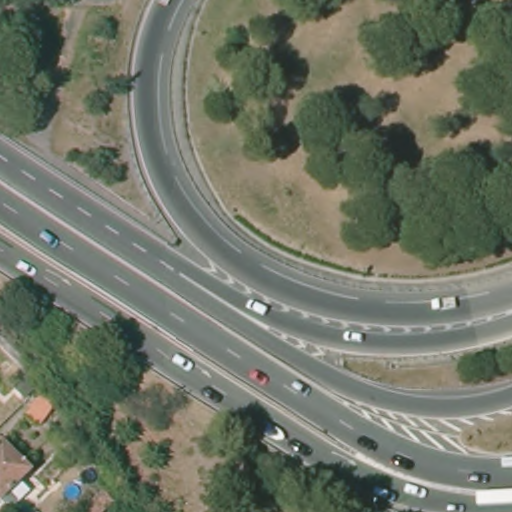pool: (62, 480, 86, 501)
